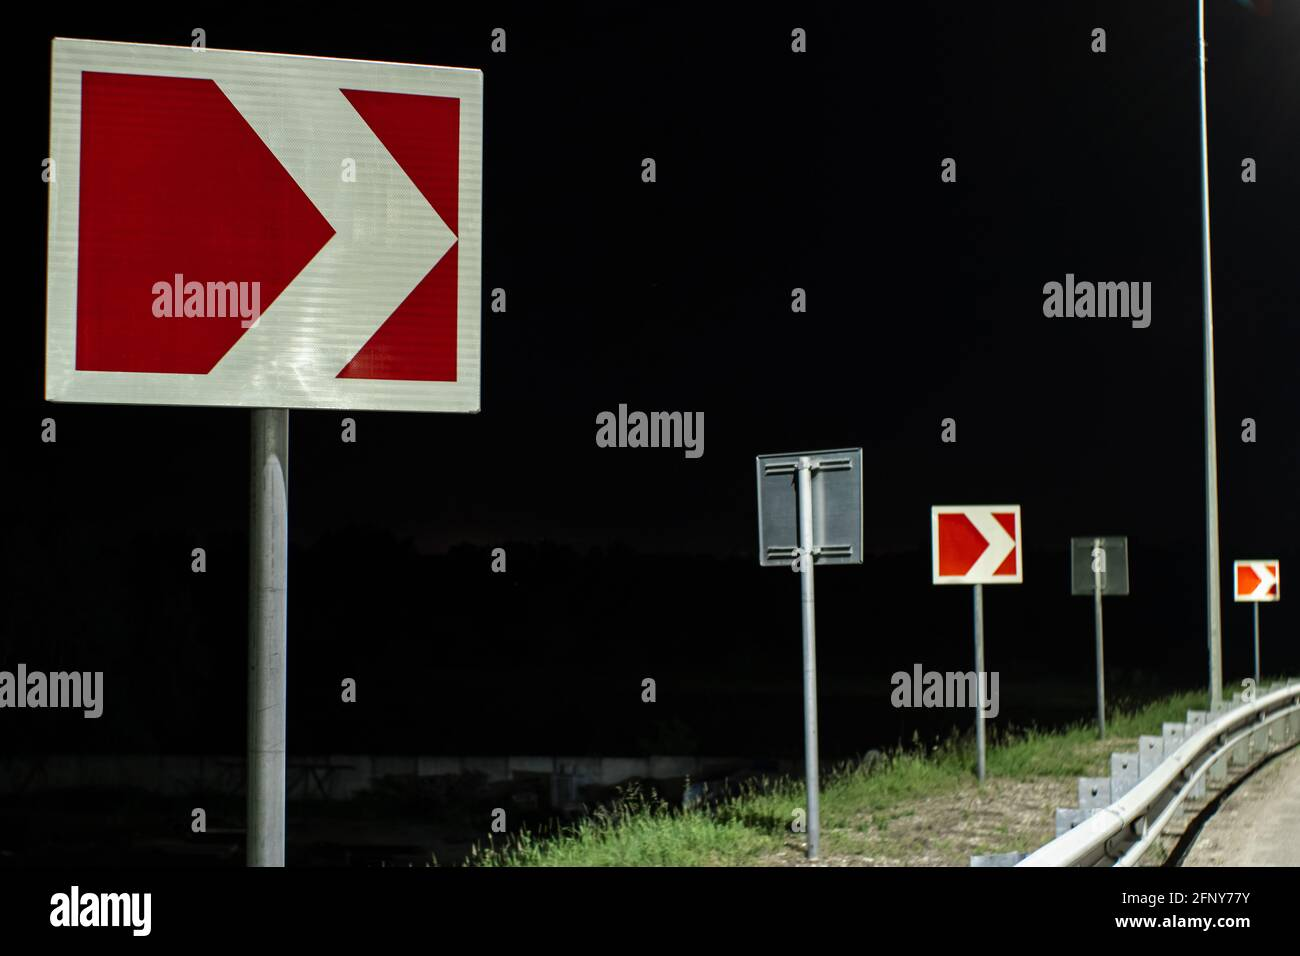right turn: (48, 36, 485, 424), (936, 508, 1021, 581), (1235, 562, 1278, 600)
